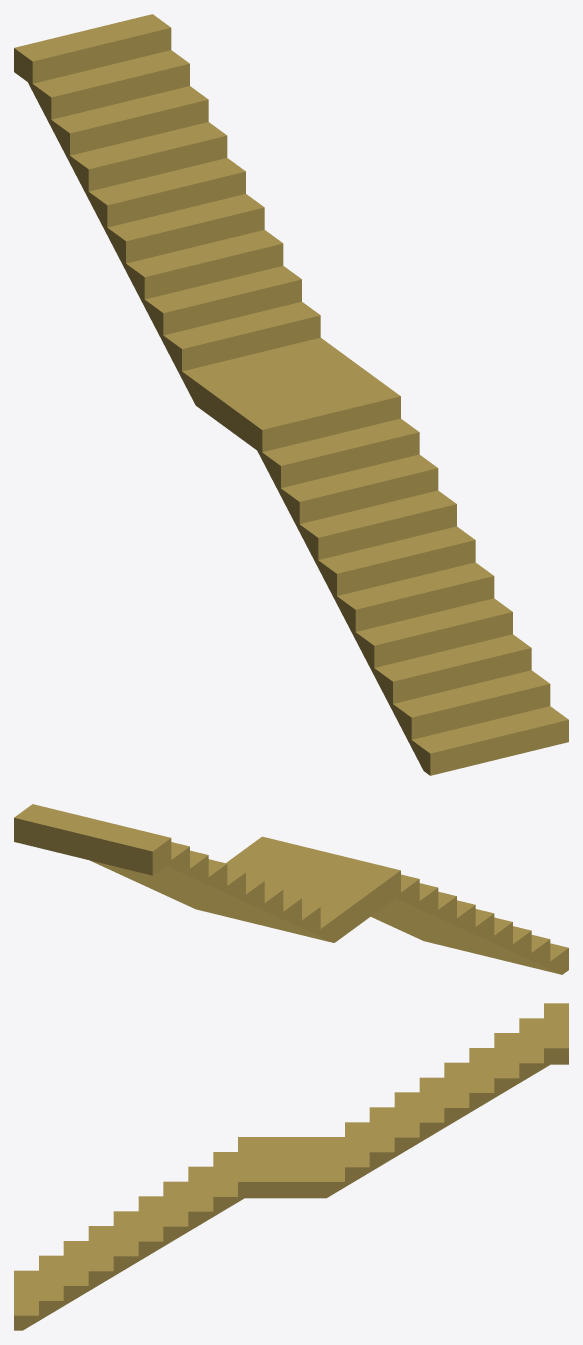
The model's file is arch_stair_landing_f350.glb.
3 renders of one model, top to bottom at view 1: azimuth 30°, elevation 25°; view 2: azimuth 150°, elevation 25°; view 3: azimuth 270°, elevation 25°, orthographic. The views are drawn at different scales.
Visible parts, largest first — view 1: Stair; view 2: Stair; view 3: Stair.
Part boxes in pixels (<box>): Stair: <box>14,14,568,775</box>; Stair: <box>14,804,568,974</box>; Stair: <box>14,1003,568,1330</box>.
Size of what is drawn, in the model's own units: 1.2 by 3.5 by 6.24.
